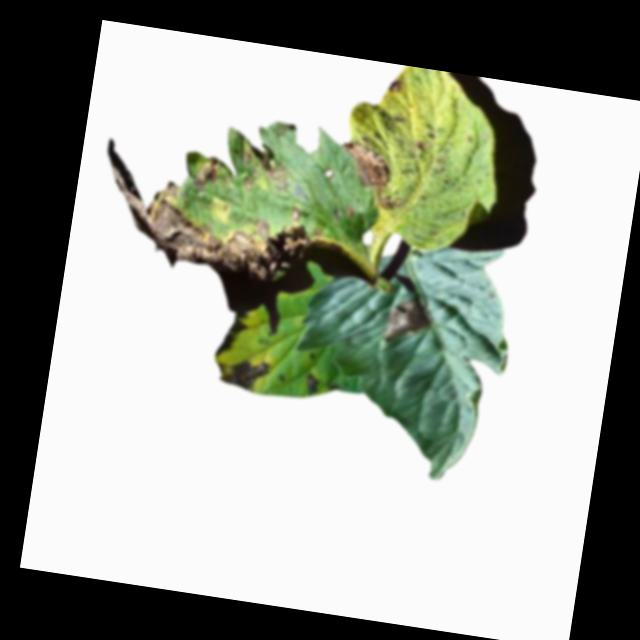Early_blight: (89, 137, 346, 291), (337, 139, 402, 212), (385, 295, 431, 345), (216, 353, 270, 394), (214, 314, 248, 363), (384, 75, 405, 95), (304, 372, 320, 397)
